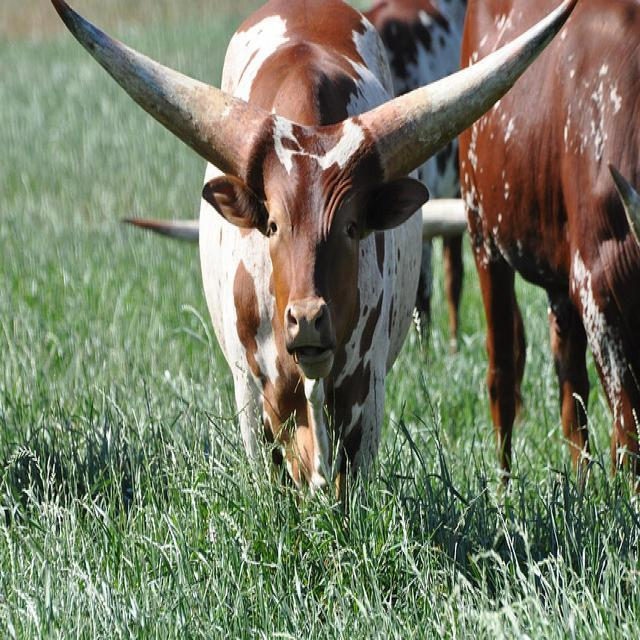cow: (50, 0, 577, 519), (458, 0, 638, 497), (351, 0, 473, 359)
